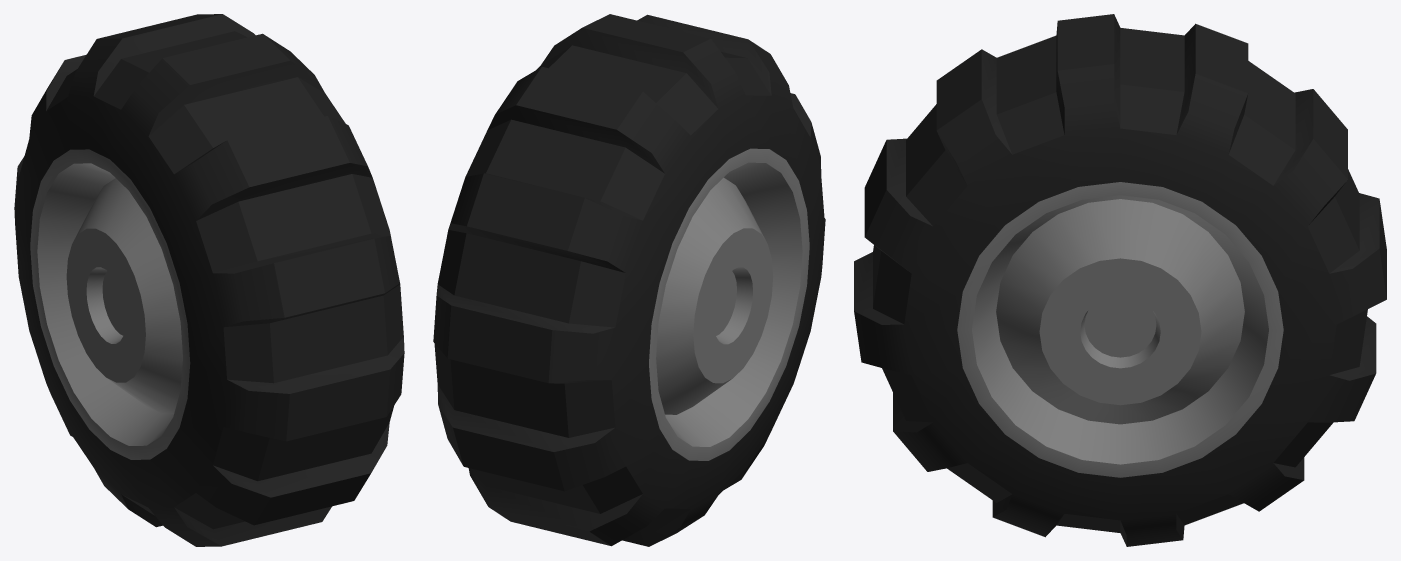
File: frontwheel_l.004_lev1.glb
The picture shows the model from 3 angles, left to right: view 1: azimuth 30°, elevation 25°; view 2: azimuth 150°, elevation 25°; view 3: azimuth 270°, elevation 25°; orthographic projection.
Parts seen in each view (by area): view 1: frontwheel_l.004_lev1; view 2: frontwheel_l.004_lev1; view 3: frontwheel_l.004_lev1.
Boxes of the visible parts, x1=… form: frontwheel_l.004_lev1: x1=14, y1=14, x2=404, y2=546; frontwheel_l.004_lev1: x1=433, y1=14, x2=825, y2=546; frontwheel_l.004_lev1: x1=854, y1=14, x2=1386, y2=546.
Size of the model in its own units: 0.3251 by 0.7129 by 0.7129.
1 material, 1 textured.
